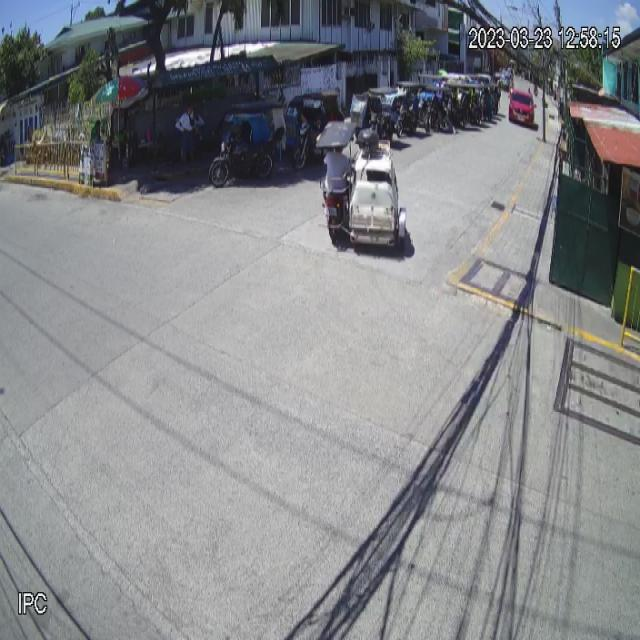Tricycle: (315, 118, 407, 254)
